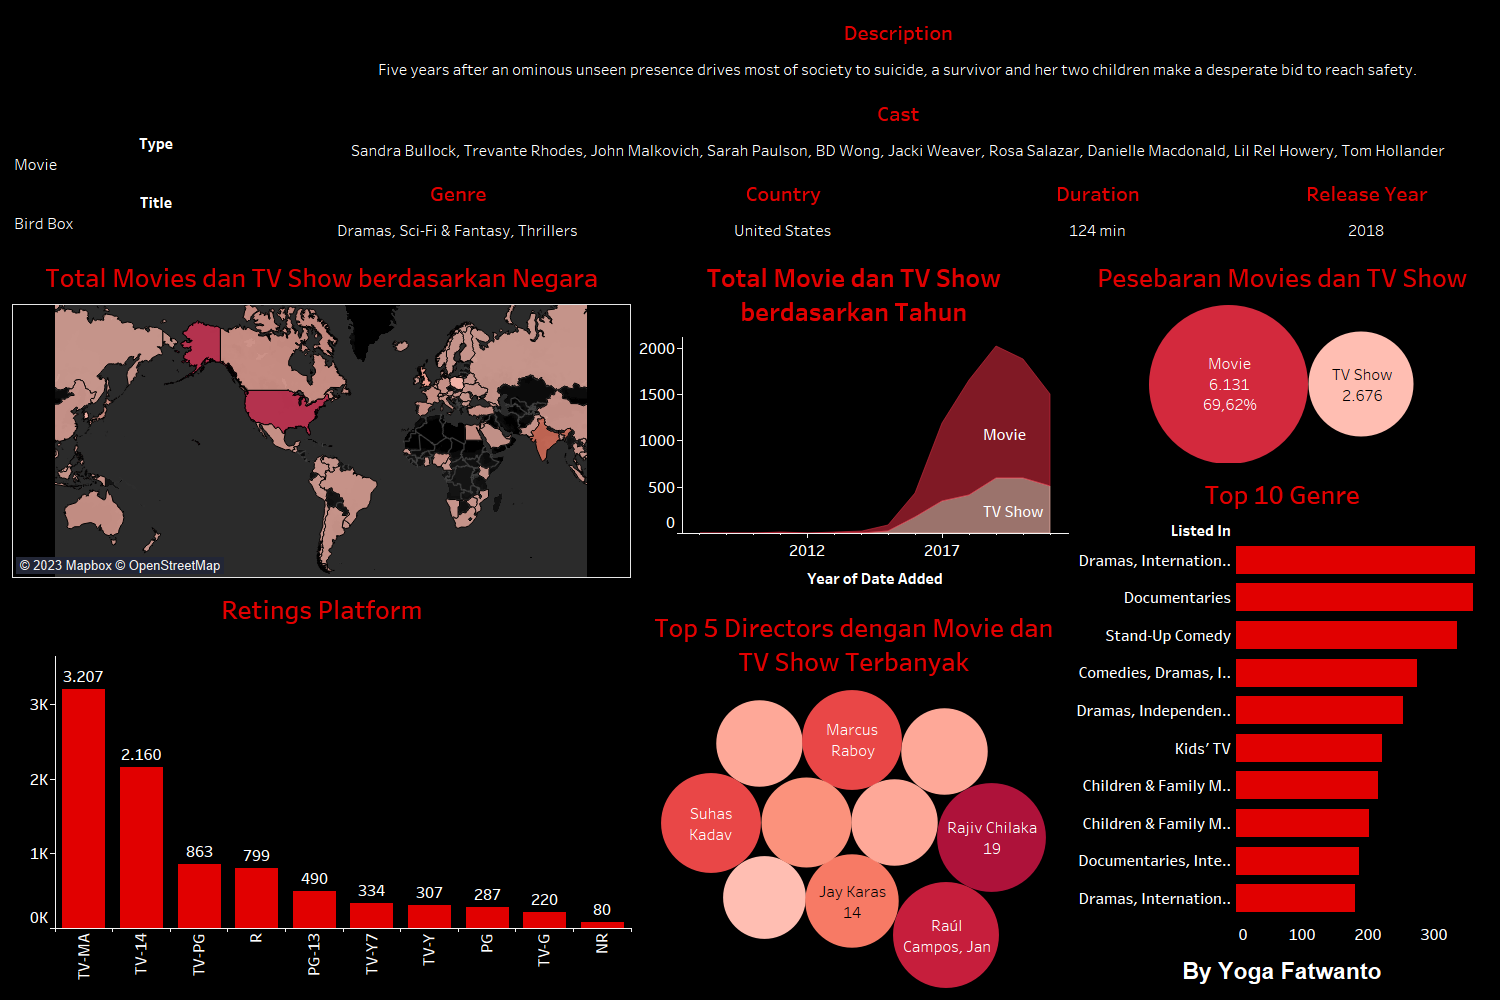

Layout of this report page (visuals, bound fields, positions):
{"tool":"tableau","page":{"name":"Netflix Dashboard","canvas":[1500,1000],"ordinal":0},"visuals":[{"type":"image","param":"D:/PRIGEL HALAL MART/Data Science/Tugas 2 Tableau/Logonetflix.png","box":[8,8,296,120]},{"type":"worksheet","title":"Description","mark":"Automatic","box":[304,8,1188,80.7]},{"type":"worksheet","title":"Cast","mark":"Automatic","box":[304,88.7,1188,80.7]},{"type":"filter","title":"Description","param":"[federated.0b8l0ni1lceduu19wv3w51wivzbw].[none:type:nk]","box":[8,128,296,59]},{"type":"worksheet","title":"Genre","mark":"Automatic","box":[304,169.3,308,80.7]},{"type":"worksheet","title":"Country","mark":"Automatic","box":[612,169.3,342,80.7]},{"type":"worksheet","title":"Duration","mark":"Automatic","box":[954,169.3,287,80.7]},{"type":"worksheet","title":"Year","mark":"Automatic","box":[1241,169.3,251,80.7]},{"type":"filter","title":"Description","param":"[federated.0b8l0ni1lceduu19wv3w51wivzbw].[none:title:nk]","box":[8,187,296,63]},{"type":"worksheet","title":"Total Movie dan TV Show berdasarkan Negara","mark":"Multipolygon","box":[8,250,627,332.1]},{"type":"worksheet","title":"Total Movie dan TV Show berdasarkan Tahun Rilis","mark":"Area","rows":["show_id"],"cols":["date_added"],"box":[635,250,437.2,349.6]},{"type":"worksheet","title":"Peesebaran Movie dan TV Show","mark":"Circle","box":[1072.2,250,419.8,217]},{"type":"worksheet","title":"Top 10 Genre","mark":"Automatic","rows":["listed_in"],"cols":["show_id"],"box":[1072.2,467,419.8,484]},{"type":"worksheet","title":"Ratings Platform","mark":"Automatic","rows":["show_id"],"cols":["rating"],"box":[8,582.1,627,409.9]},{"type":"worksheet","title":"Top 5 Directors","mark":"Circle","box":[635,599.6,437.2,392.4]},{"type":"text","box":[1072.2,951,419.8,41]}]}

Visuals, with their boxes in screenshot pixels (x1, y1, x2, y2), scaled from the page's 1500x1000 canvas onto the 1500x1000 screenshot:
image: region(8, 8, 304, 128)
"Description" worksheet: region(304, 8, 1492, 89)
"Cast" worksheet: region(304, 89, 1492, 169)
"Description" filter: region(8, 128, 304, 187)
"Genre" worksheet: region(304, 169, 612, 250)
"Country" worksheet: region(612, 169, 954, 250)
"Duration" worksheet: region(954, 169, 1241, 250)
"Year" worksheet: region(1241, 169, 1492, 250)
"Description" filter: region(8, 187, 304, 250)
"Total Movie dan TV Show berdasarkan Negara" worksheet (Multipolygon marks): region(8, 250, 635, 582)
"Total Movie dan TV Show berdasarkan Tahun Rilis" worksheet (Area marks): region(635, 250, 1072, 600)
"Peesebaran Movie dan TV Show" worksheet (Circle marks): region(1072, 250, 1492, 467)
"Top 10 Genre" worksheet: region(1072, 467, 1492, 951)
"Ratings Platform" worksheet: region(8, 582, 635, 992)
"Top 5 Directors" worksheet (Circle marks): region(635, 600, 1072, 992)
text: region(1072, 951, 1492, 992)
